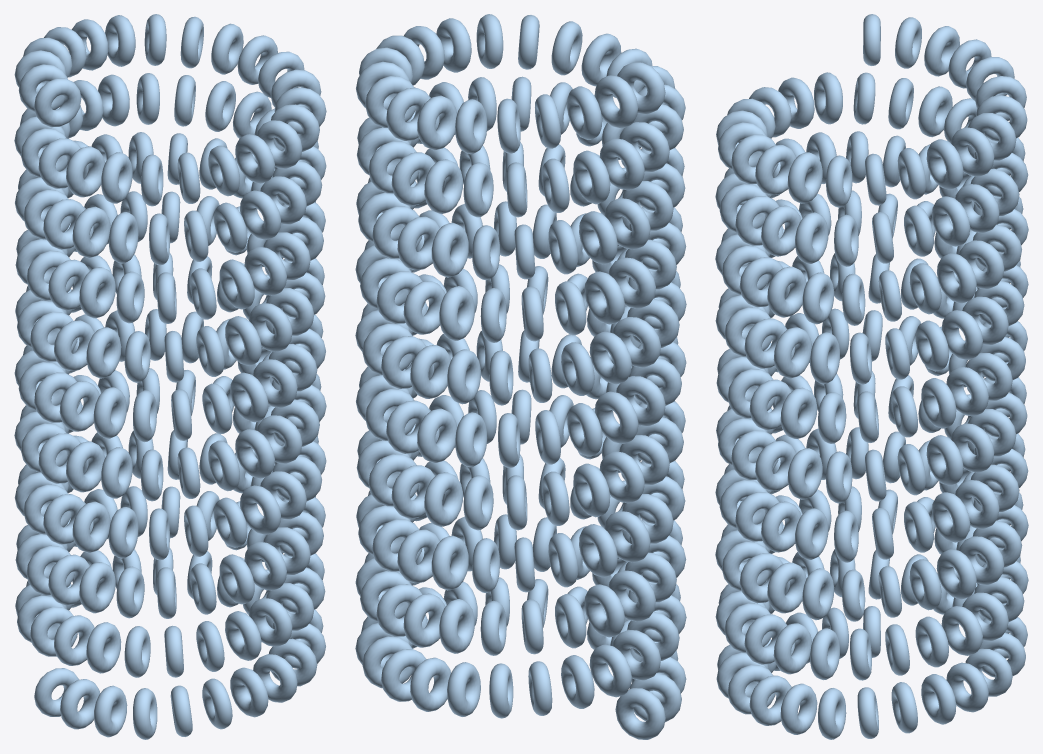
3 renders of one model, left to right at view 1: azimuth 30°, elevation 25°; view 2: azimuth 150°, elevation 25°; view 3: azimuth 270°, elevation 25°, orthographic. The views are drawn at different scales.
Parts seen in each view (by area): view 1: torus; view 2: torus; view 3: torus.
Part boxes in pixels (left/top/right/bottom): torus: left=14, top=14, right=326, bottom=739; torus: left=355, top=14, right=686, bottom=739; torus: left=715, top=14, right=1028, bottom=739.
Bounding box in the file's own units: 0.4444 × 1 × 0.4444.
